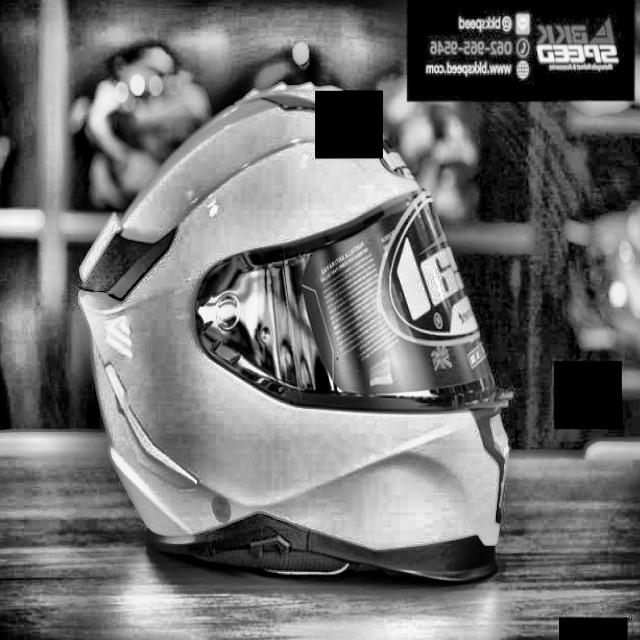Helmet: (78, 44, 513, 614)
